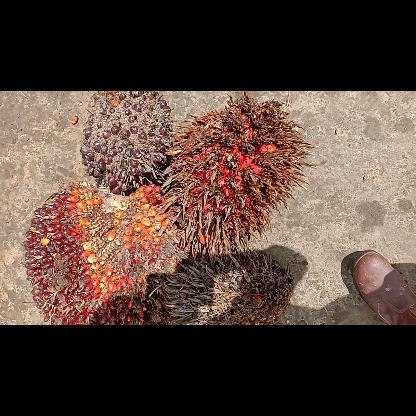Kurang masak: (81, 91, 173, 193)
TBS abnormal: (157, 254, 291, 324)
TBS masak: (23, 182, 176, 324)
Terlalu masak: (162, 90, 310, 260)
